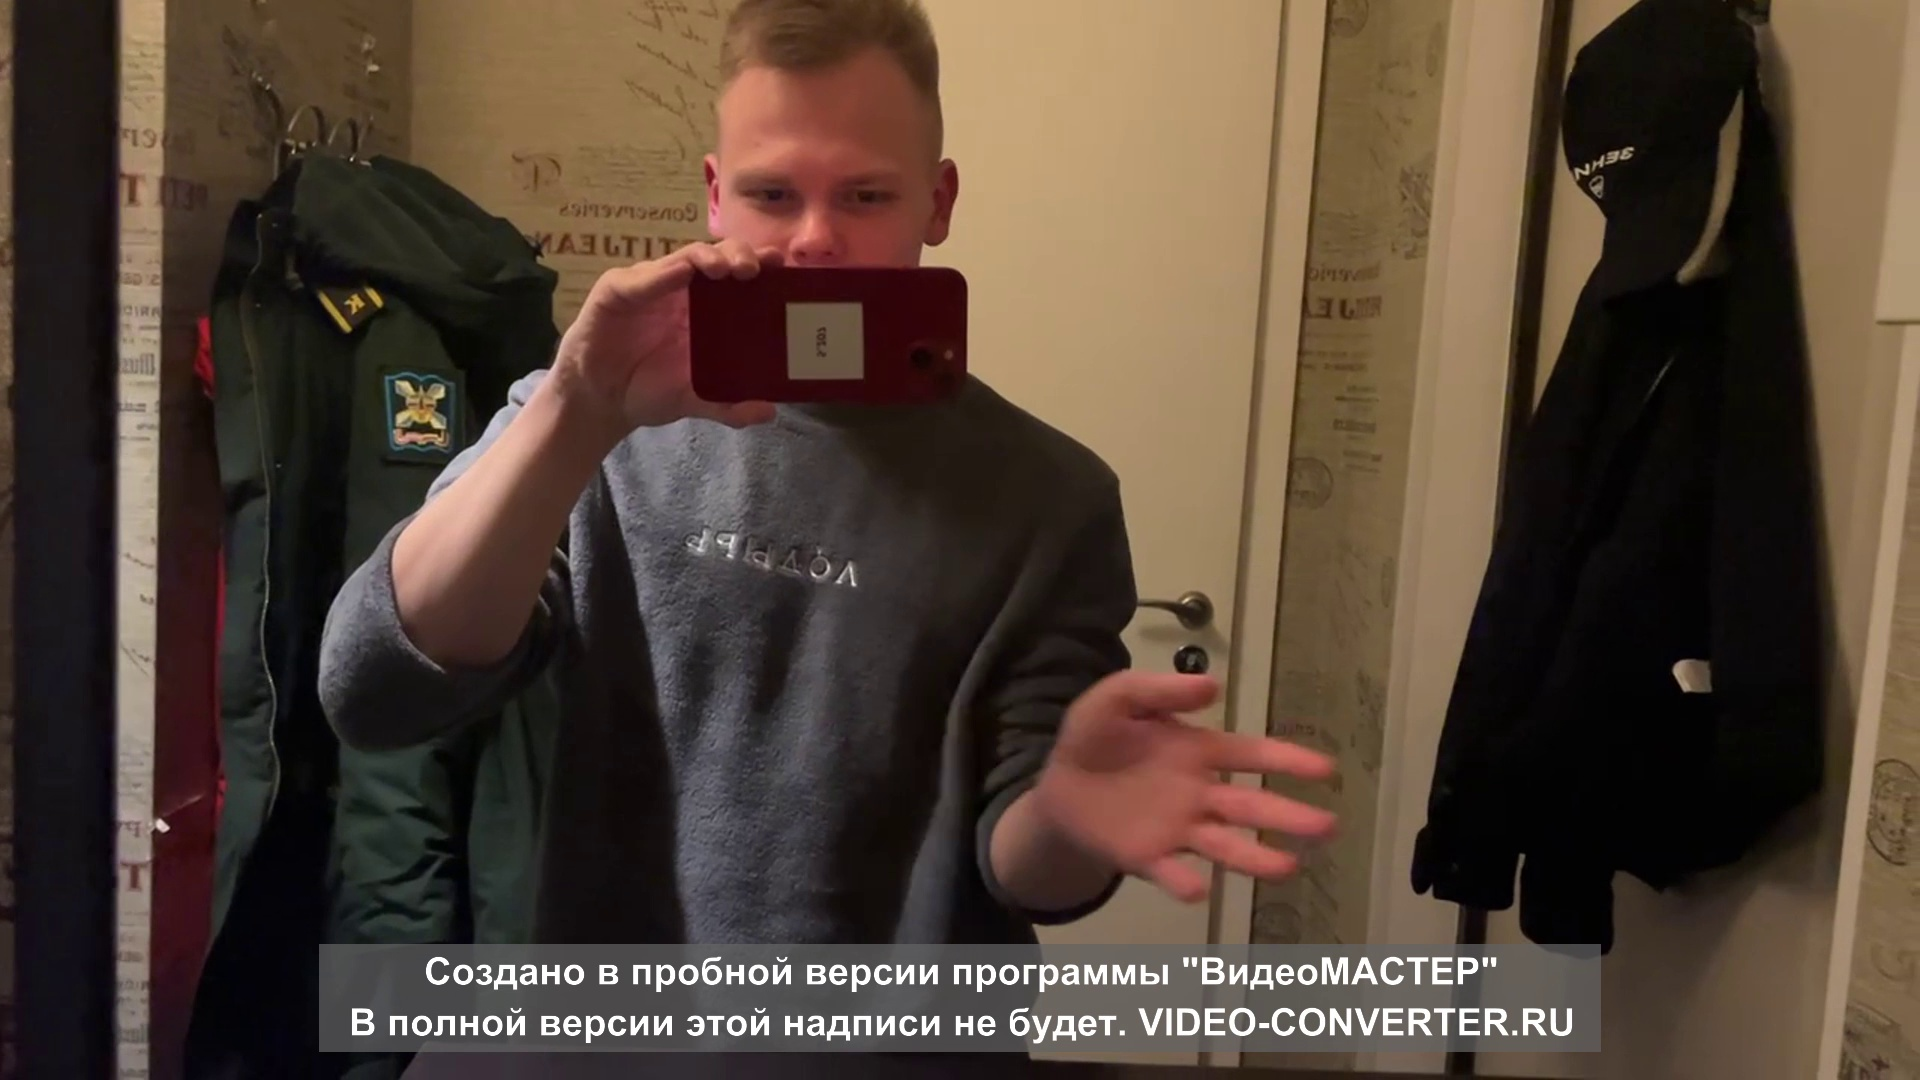Ладонь: (1051, 669, 1337, 902)
